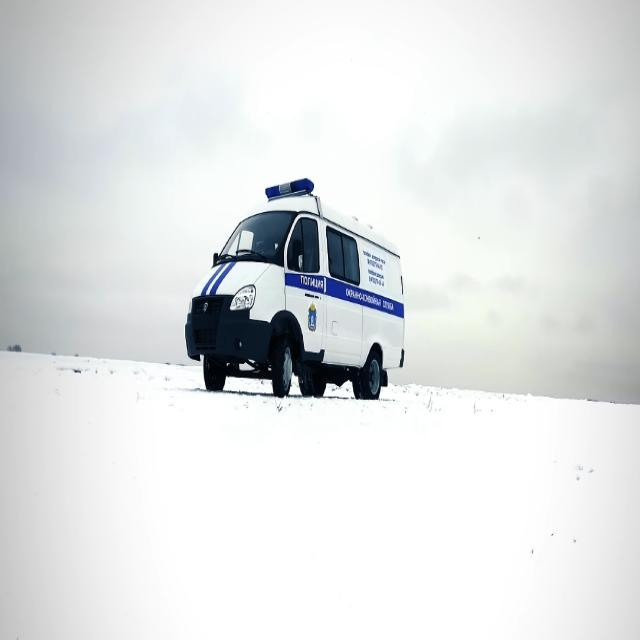police car: (183, 167, 410, 407)
